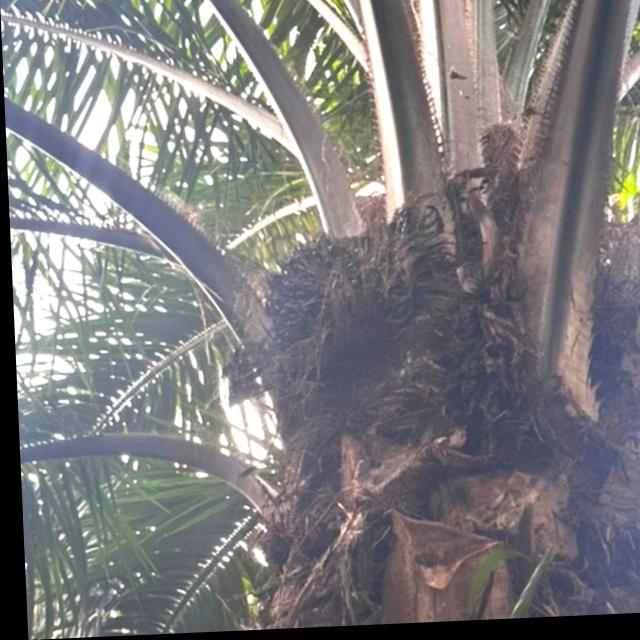unripe: (238, 214, 420, 392)
